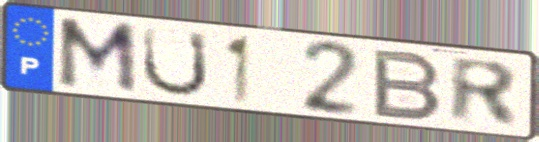1: (221, 33, 260, 108)
2: (298, 37, 362, 118)
B: (369, 46, 446, 123)
M: (55, 16, 141, 98)
R: (447, 54, 523, 131)
U: (138, 24, 211, 99)
